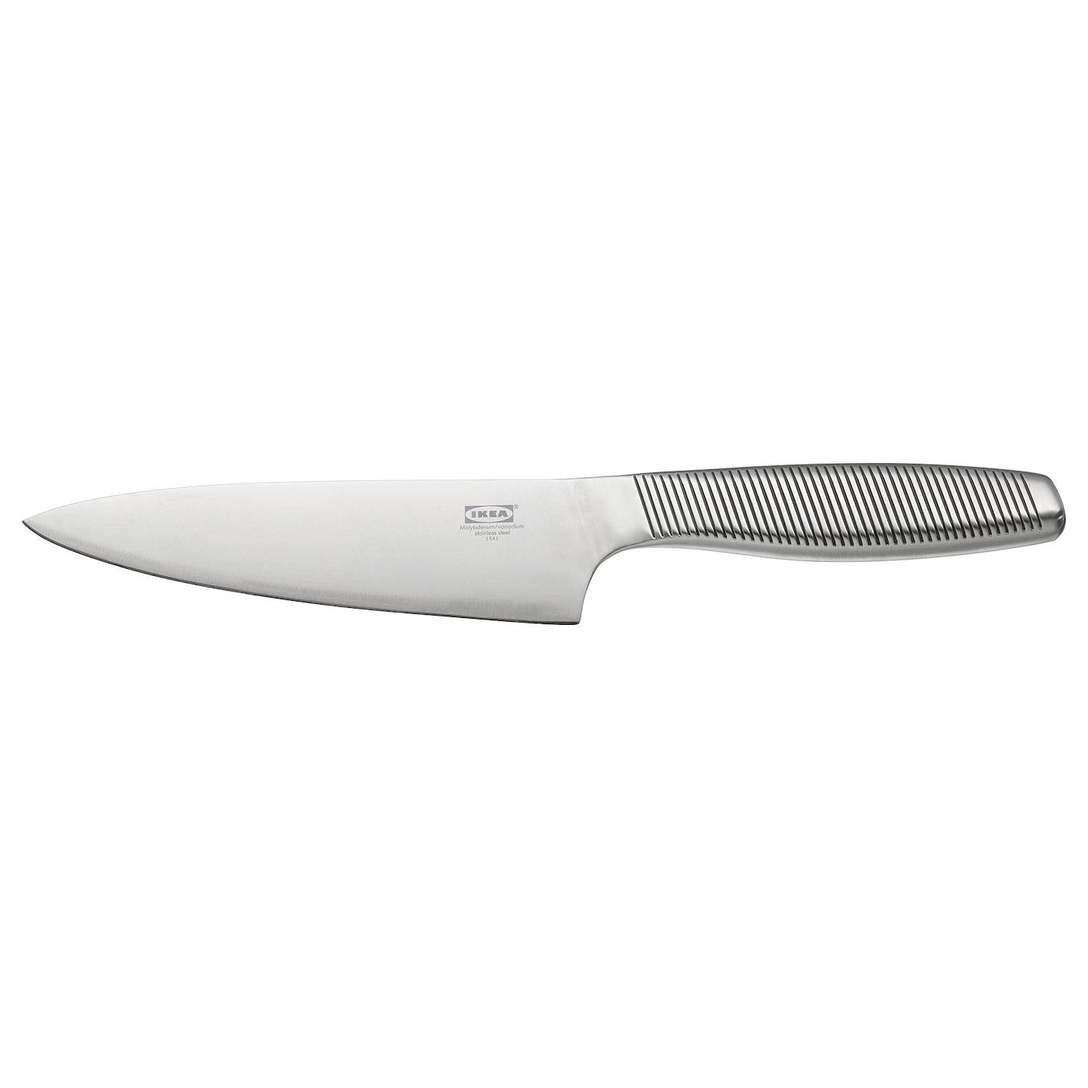knife: (23, 452, 1084, 629)
